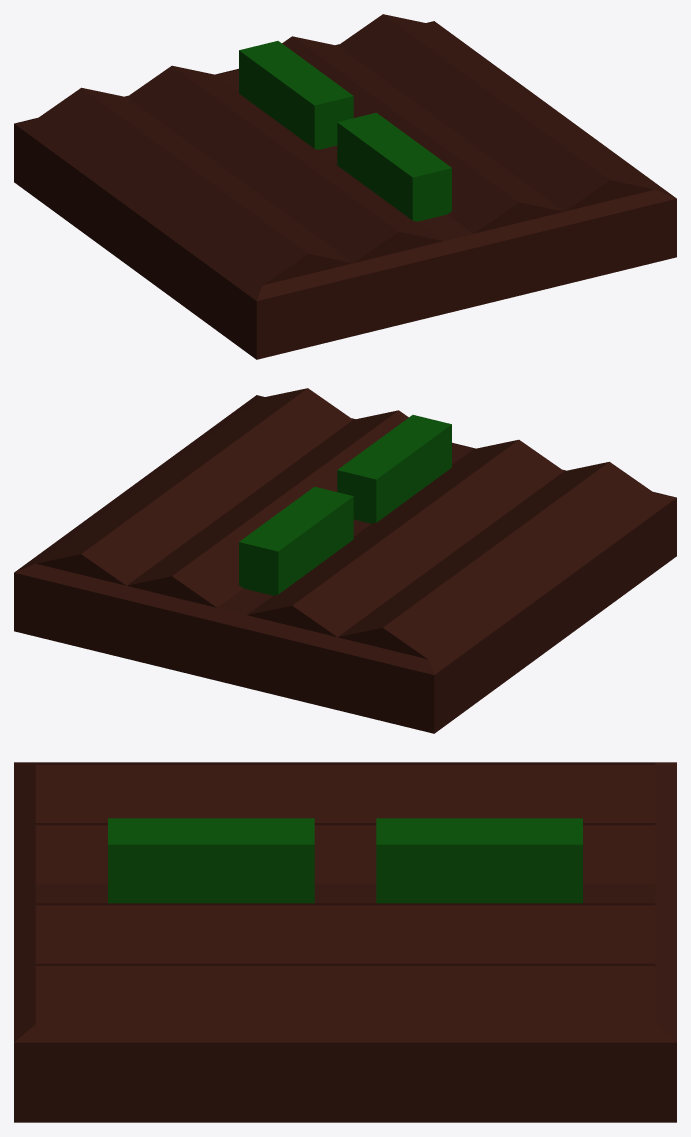
File: FarmTower.obj
The picture shows the model from 3 angles, top to bottom: view 1: azimuth 30°, elevation 25°; view 2: azimuth 150°, elevation 25°; view 3: azimuth 270°, elevation 25°; orthographic projection. The views are drawn at different scales.
Parts seen in each view (by area): view 1: Cylinder.003, PrimPart, Cube.001, Cube; view 2: Cylinder.003, PrimPart, Cube, Cube.001; view 3: Cylinder.003, PrimPart, Cube, Cube.001.
Part boxes in pixels (x1,y1,x2,y2): Cylinder.003: (36, 14, 654, 285); PrimPart: (14, 21, 676, 359); Cube.001: (337, 112, 451, 221); Cube: (239, 41, 353, 149); Cylinder.003: (36, 388, 654, 659); PrimPart: (14, 395, 676, 733); Cube: (239, 486, 353, 595); Cube.001: (337, 415, 451, 523); Cylinder.003: (35, 762, 655, 1024); PrimPart: (14, 762, 676, 1122); Cube: (376, 818, 582, 903); Cube.001: (108, 818, 314, 903).
Size of the model in its own units: 3.21 by 0.8073 by 3.21.
